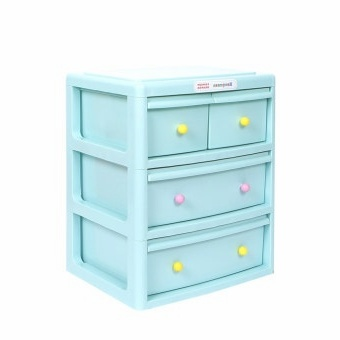plastic: (73, 75, 270, 273)
